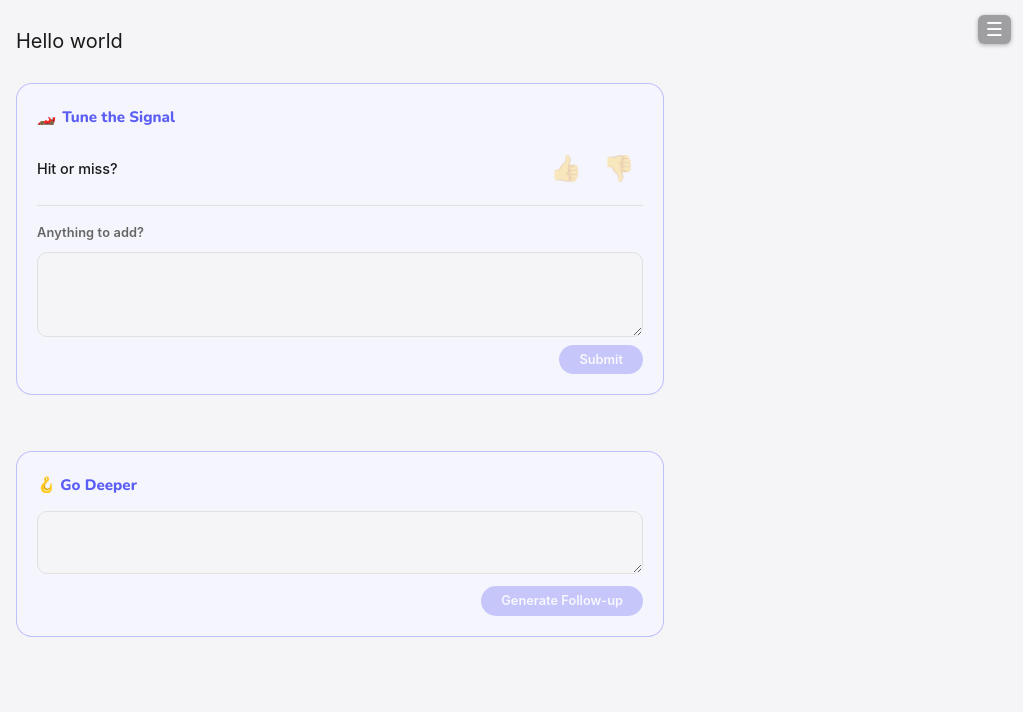
Scenario: ArticlePage feedback bar › reaction error and free-text error are shown independently
// Trigger reaction error
Click the button named "Like".
click(566, 169)  # box [542,148,590,189]
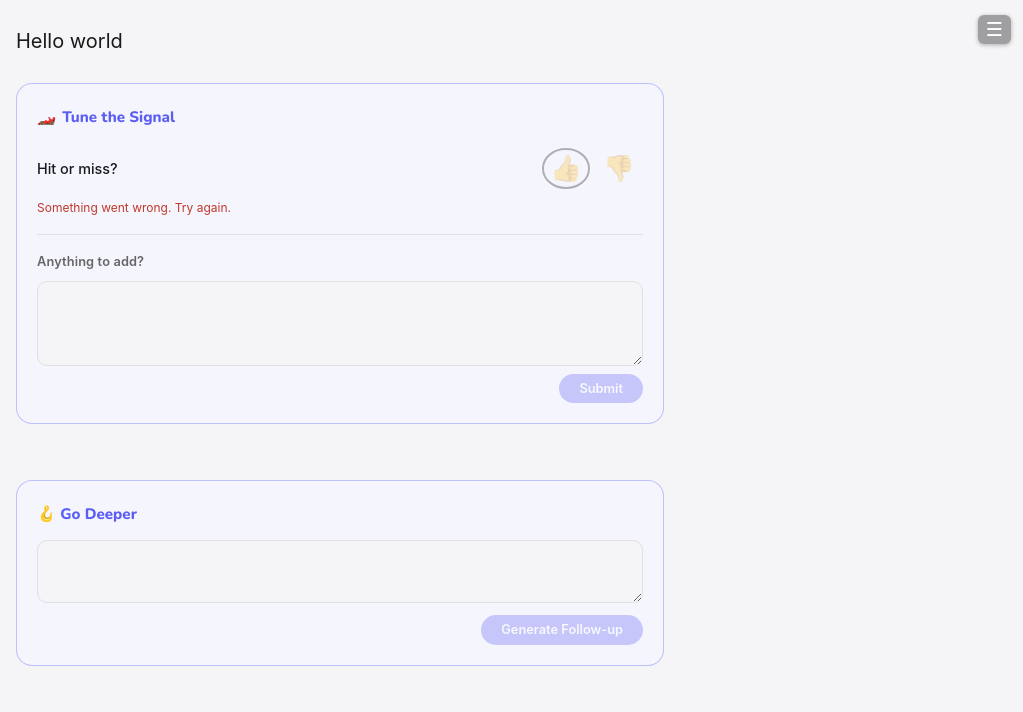
expect the text "Something went wrong. Try again." is shown once: met, box [37,200,231,215]
// Now trigger free-text error — reaction error area should not duplicate
Type "test" into the text box labelled "Anything to add?".
click(340, 324); type("test")  # box [37,281,643,366]
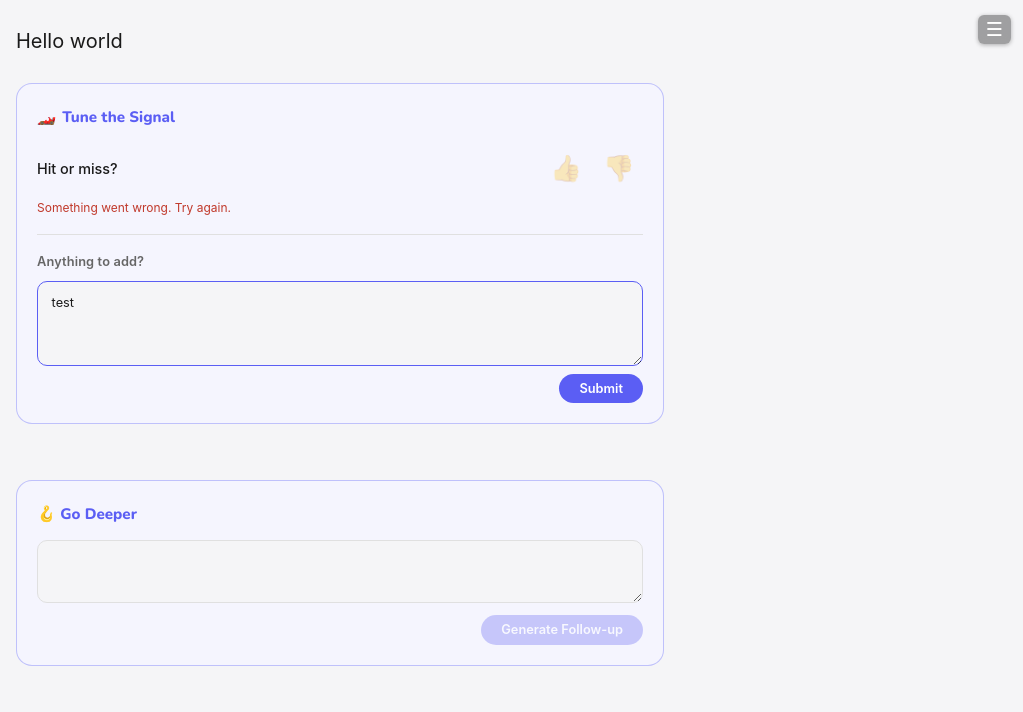
Click the button "Submit".
click(601, 388)  # box [560,374,643,403]
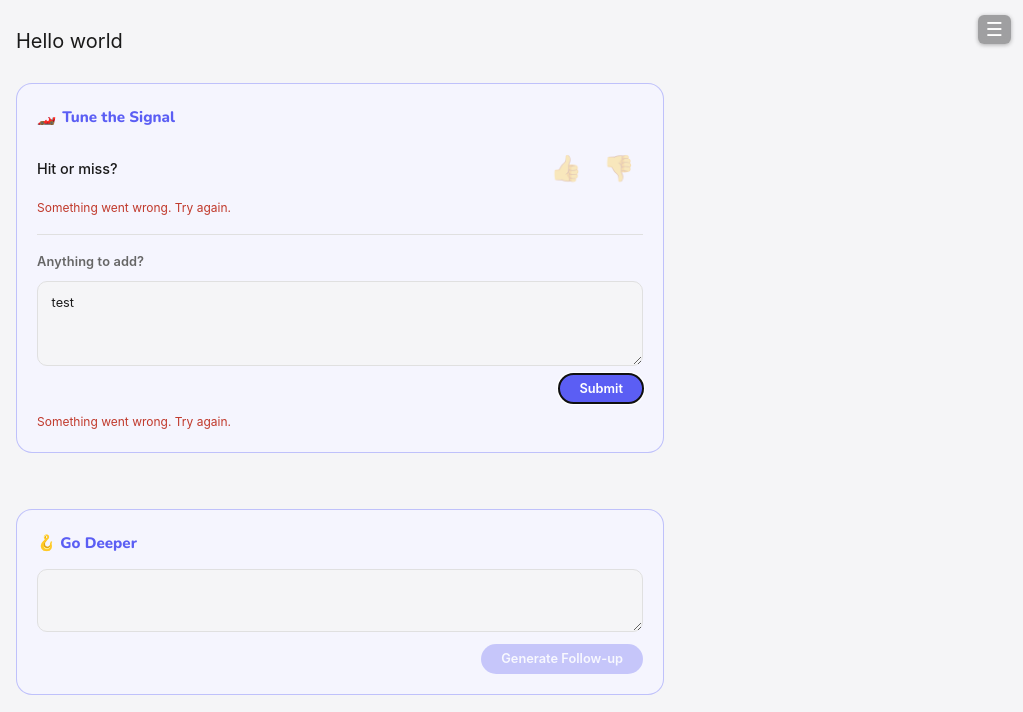
expect the text "Something went wrong. Try again." is shown 2 times: met, box [37,200,231,215]; [37,414,231,429]
